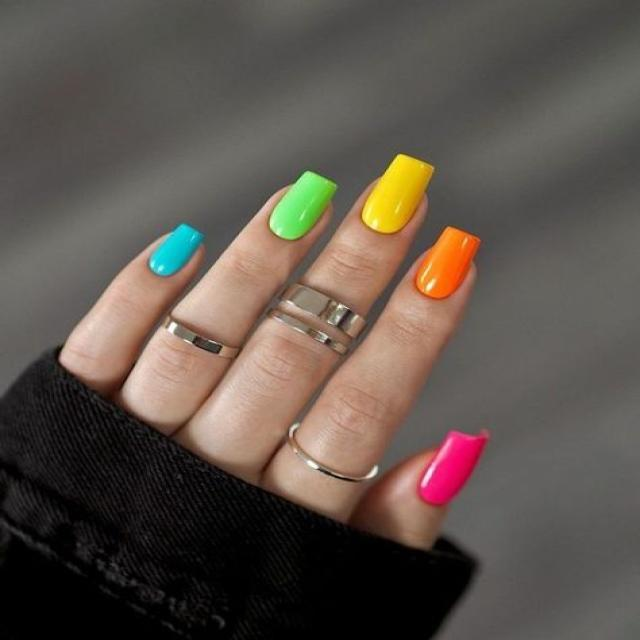Fingernail: (362, 153, 436, 234), (419, 430, 491, 507), (417, 226, 481, 301), (270, 171, 338, 240), (147, 223, 205, 276)
